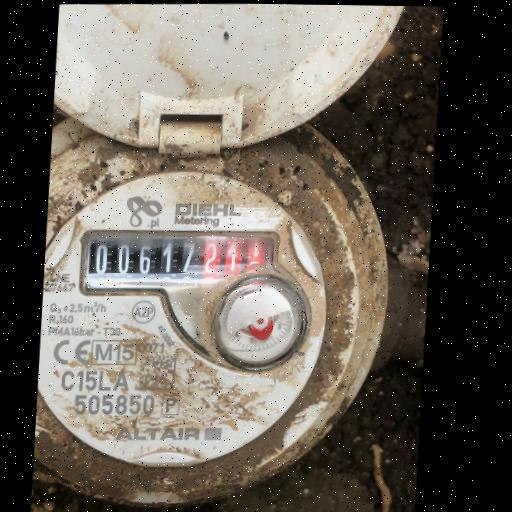0: (89, 239, 117, 276), (113, 239, 137, 275)
1: (222, 239, 246, 279), (158, 239, 182, 275), (244, 237, 267, 274)
2: (200, 239, 226, 279)
6: (133, 240, 159, 276)
7: (177, 237, 204, 275)
border_water_meter_number: (77, 226, 283, 298)
